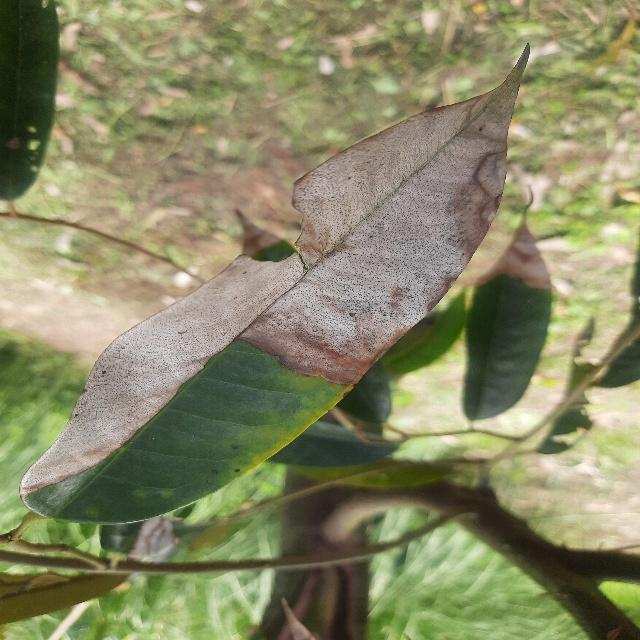Leaf Blight: (9, 35, 538, 537)
